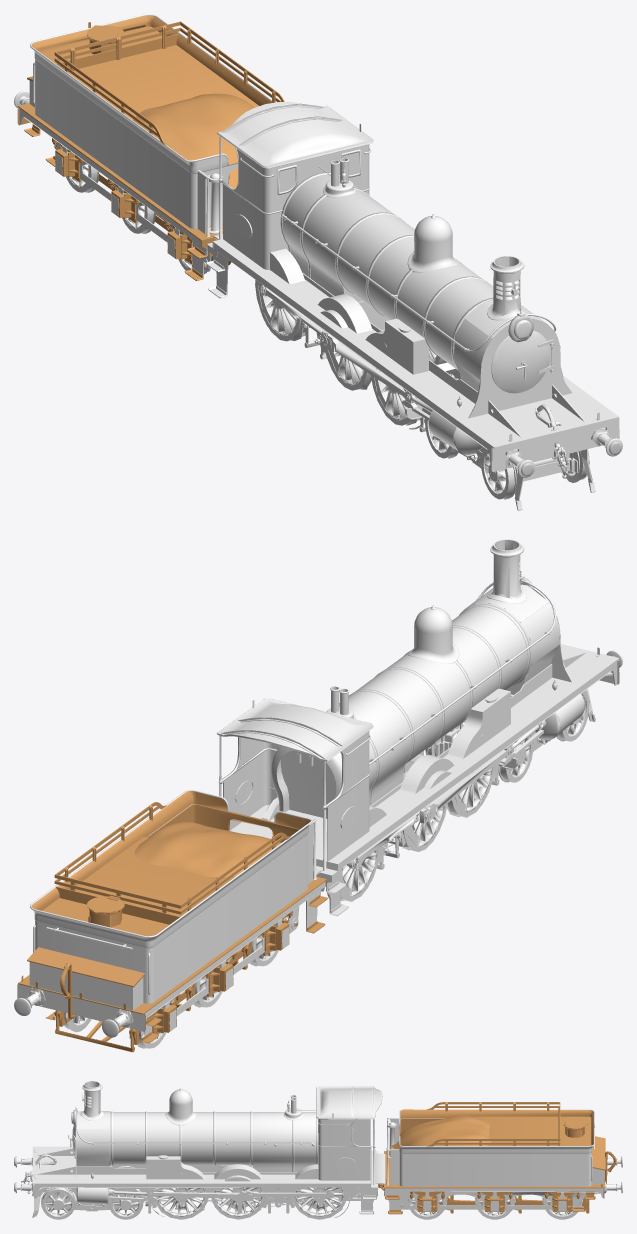
The model's file is train.fbx.
3 renders of one model, top to bottom at view 1: azimuth 30°, elevation 25°; view 2: azimuth 150°, elevation 25°; view 3: azimuth 270°, elevation 25°, orthographic. The views are drawn at different scales.
Parts seen in each view (by area): view 1: train, wheel small 1, wheel big 3, stick 2, wheel big 2, wheel big1; view 2: train, wheel big 3, stick 2, wheel big1, wheel big 2, wheel small 2, stick 1; view 3: train, wheel big 3, wheel big1, wheel big 2, stick 2, wheel small 1, wheel small 2, stick 1, wheel mid2, wheel mid1, wheel mid3.
Part boxes in pixels (x1=…): train: x1=14, y1=14, x2=622, y2=510; wheel small 1: x1=481, y1=448, x2=589, y2=499; wheel big 3: x1=255, y1=280, x2=301, y2=341; stick 2: x1=321, y1=331, x2=432, y2=412; wheel big 2: x1=324, y1=346, x2=444, y2=390; wheel big1: x1=370, y1=360, x2=457, y2=425; train: x1=14, y1=539, x2=622, y2=1052; wheel big 3: x1=261, y1=796, x2=380, y2=902; stick 2: x1=419, y1=725, x2=539, y2=823; wheel big1: x1=409, y1=752, x2=495, y2=818; wheel big 2: x1=402, y1=803, x2=447, y2=851; wheel small 2: x1=425, y1=736, x2=533, y2=782; stick 1: x1=347, y1=773, x2=472, y2=869; train: x1=14, y1=1081, x2=622, y2=1217; wheel big 3: x1=291, y1=1187, x2=347, y2=1219; wheel big1: x1=155, y1=1188, x2=209, y2=1219; wheel big 2: x1=211, y1=1187, x2=265, y2=1219; stick 2: x1=114, y1=1189, x2=253, y2=1201; wheel small 1: x1=41, y1=1187, x2=75, y2=1219; wheel small 2: x1=108, y1=1166, x2=143, y2=1219; stick 1: x1=189, y1=1189, x2=333, y2=1198; wheel mid2: x1=474, y1=1197, x2=515, y2=1219; wheel mid1: x1=407, y1=1197, x2=447, y2=1219; wheel mid3: x1=542, y1=1197, x2=582, y2=1219.
Bounding box in the file's own units: 269 × 402 × 1781.
